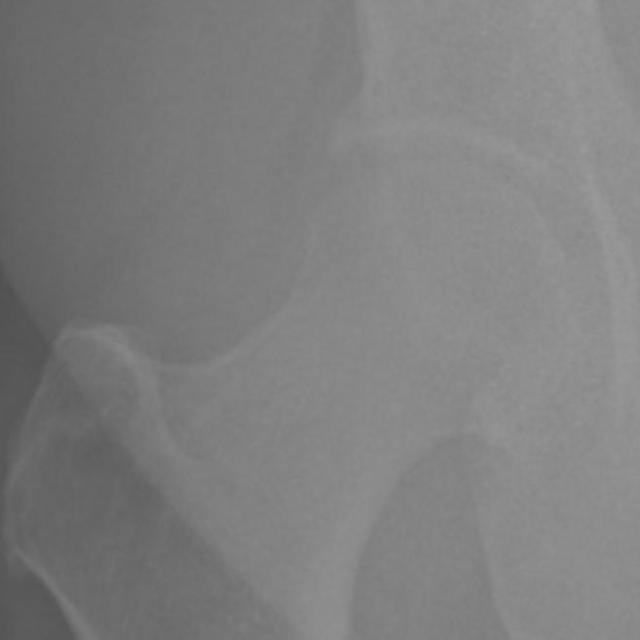Fitted_femural_head: (294, 166, 432, 294)
